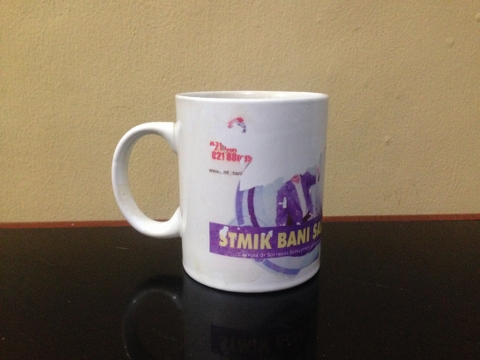tempat minum: (112, 91, 328, 293)
